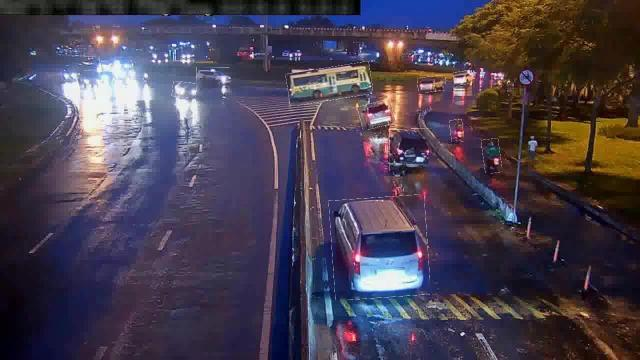Bike: (482, 138, 502, 174), (451, 120, 464, 142)
Bus: (287, 65, 373, 103)
Car: (331, 197, 429, 300), (390, 129, 432, 171), (358, 101, 394, 129), (196, 68, 234, 84), (418, 76, 447, 92), (172, 82, 196, 98), (454, 71, 474, 85)
